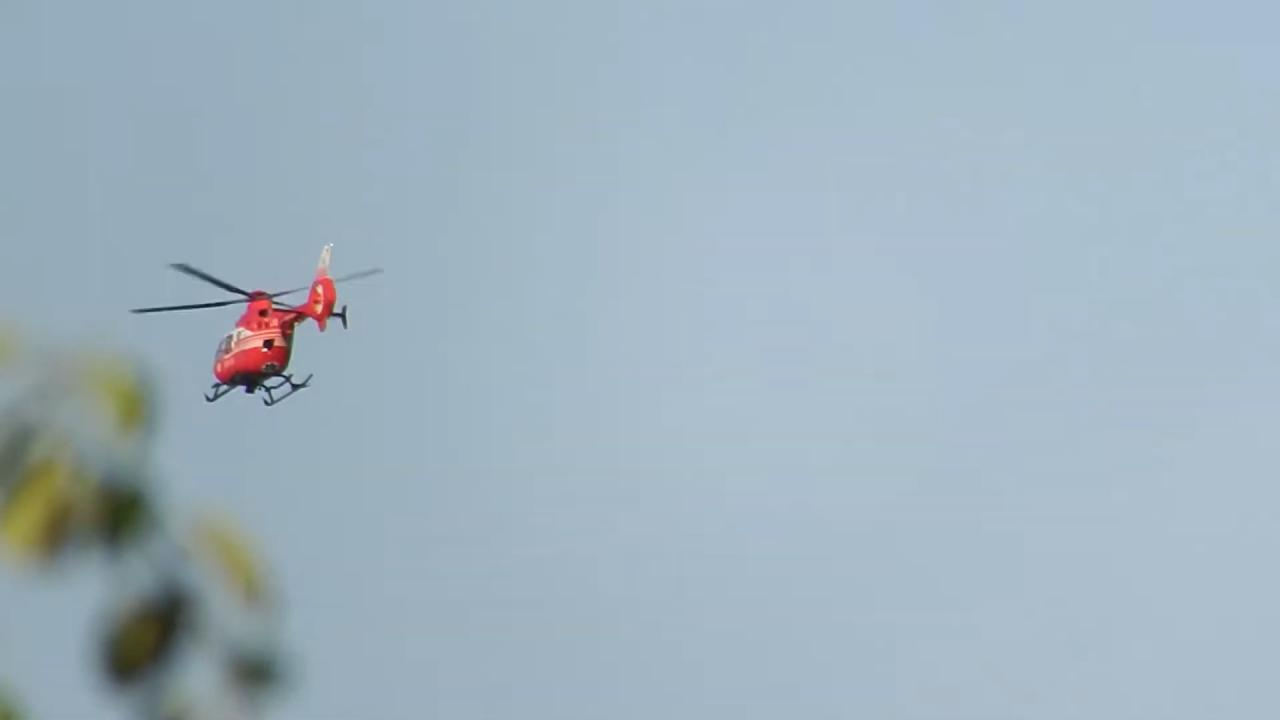Helicopter: (121, 232, 409, 415)
